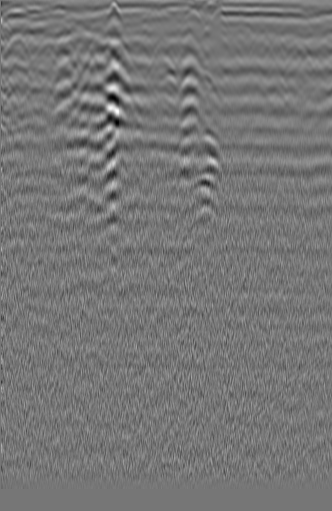가스: (185, 173, 220, 203)
상수: (281, 42, 307, 64)
오수: (2, 31, 35, 65)
우수: (141, 46, 175, 74)
